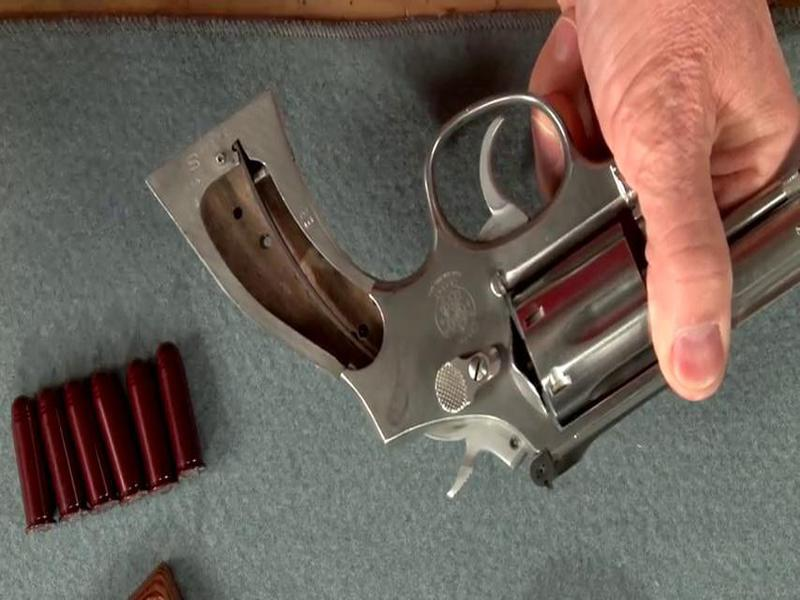Revolver: (139, 38, 800, 485)
